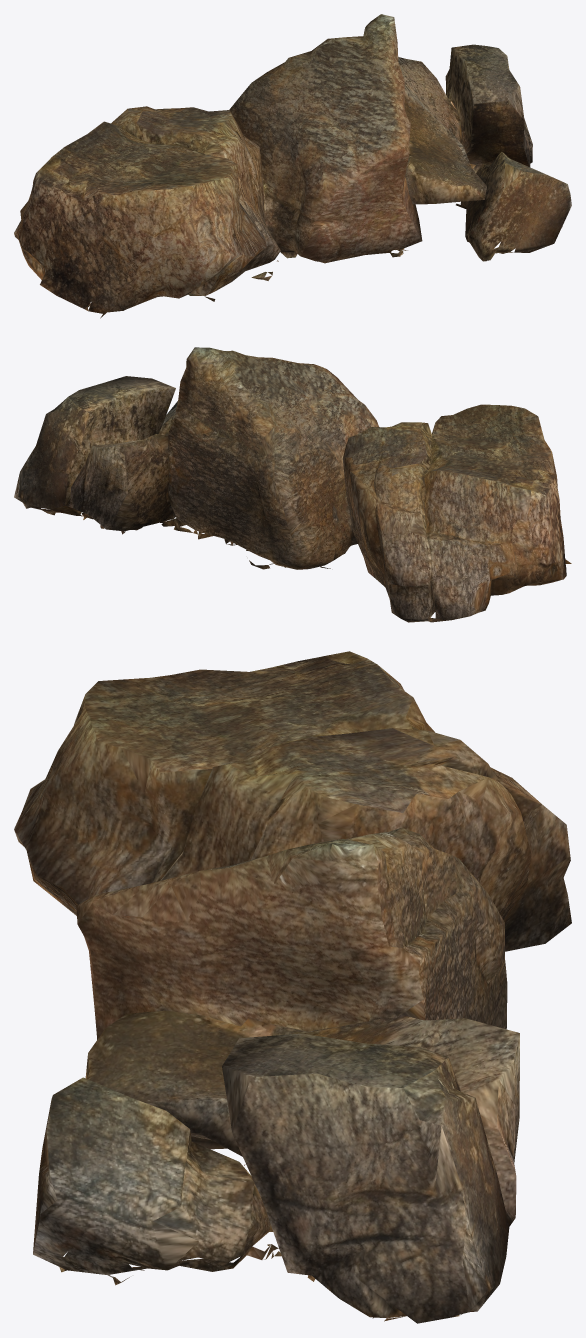
File: scan_boulder_flat.glb
The picture shows the model from 3 angles, top to bottom: view 1: azimuth 30°, elevation 25°; view 2: azimuth 150°, elevation 25°; view 3: azimuth 270°, elevation 25°; orthographic projection. The views are drawn at different scales.
Parts seen in each view (by area): view 1: scan_boulder_flat; view 2: scan_boulder_flat; view 3: scan_boulder_flat.
Boxes of the visible parts, left/top/right/bottom form: scan_boulder_flat: left=14, top=14, right=571, bottom=318; scan_boulder_flat: left=14, top=347, right=571, bottom=622; scan_boulder_flat: left=14, top=651, right=571, bottom=1323.
Bounding box in the file's own units: 2.49 × 0.8547 × 1.22.
Materials: 1 (1 with a texture image).
